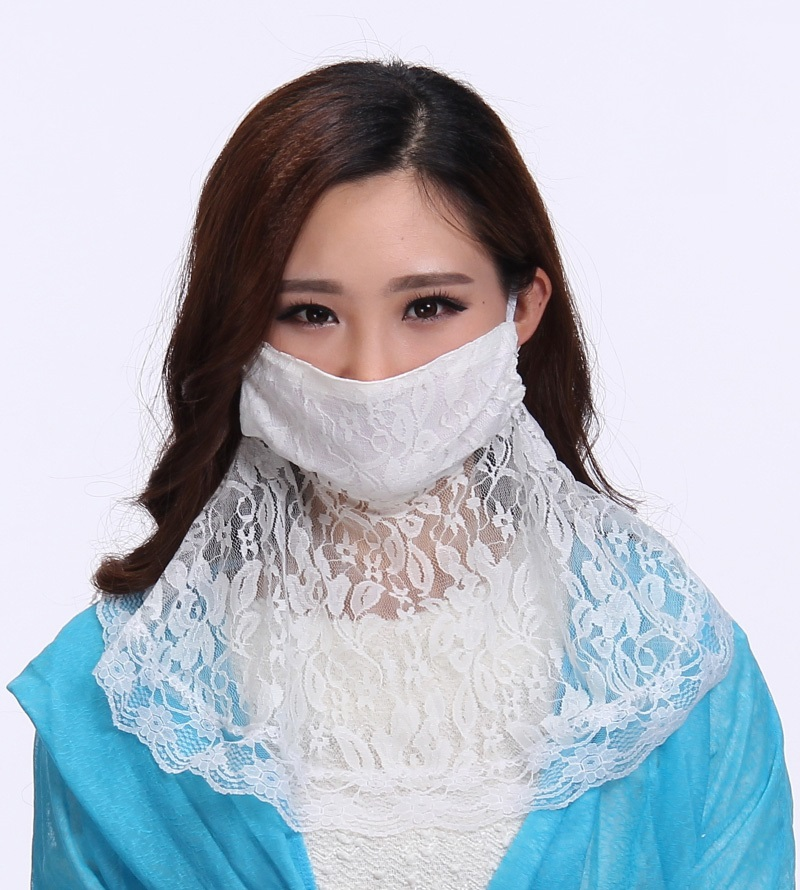face_mask: (240, 249, 527, 499)
